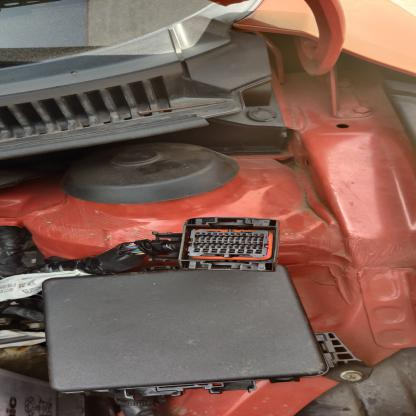Connector: (171, 215, 288, 276)
